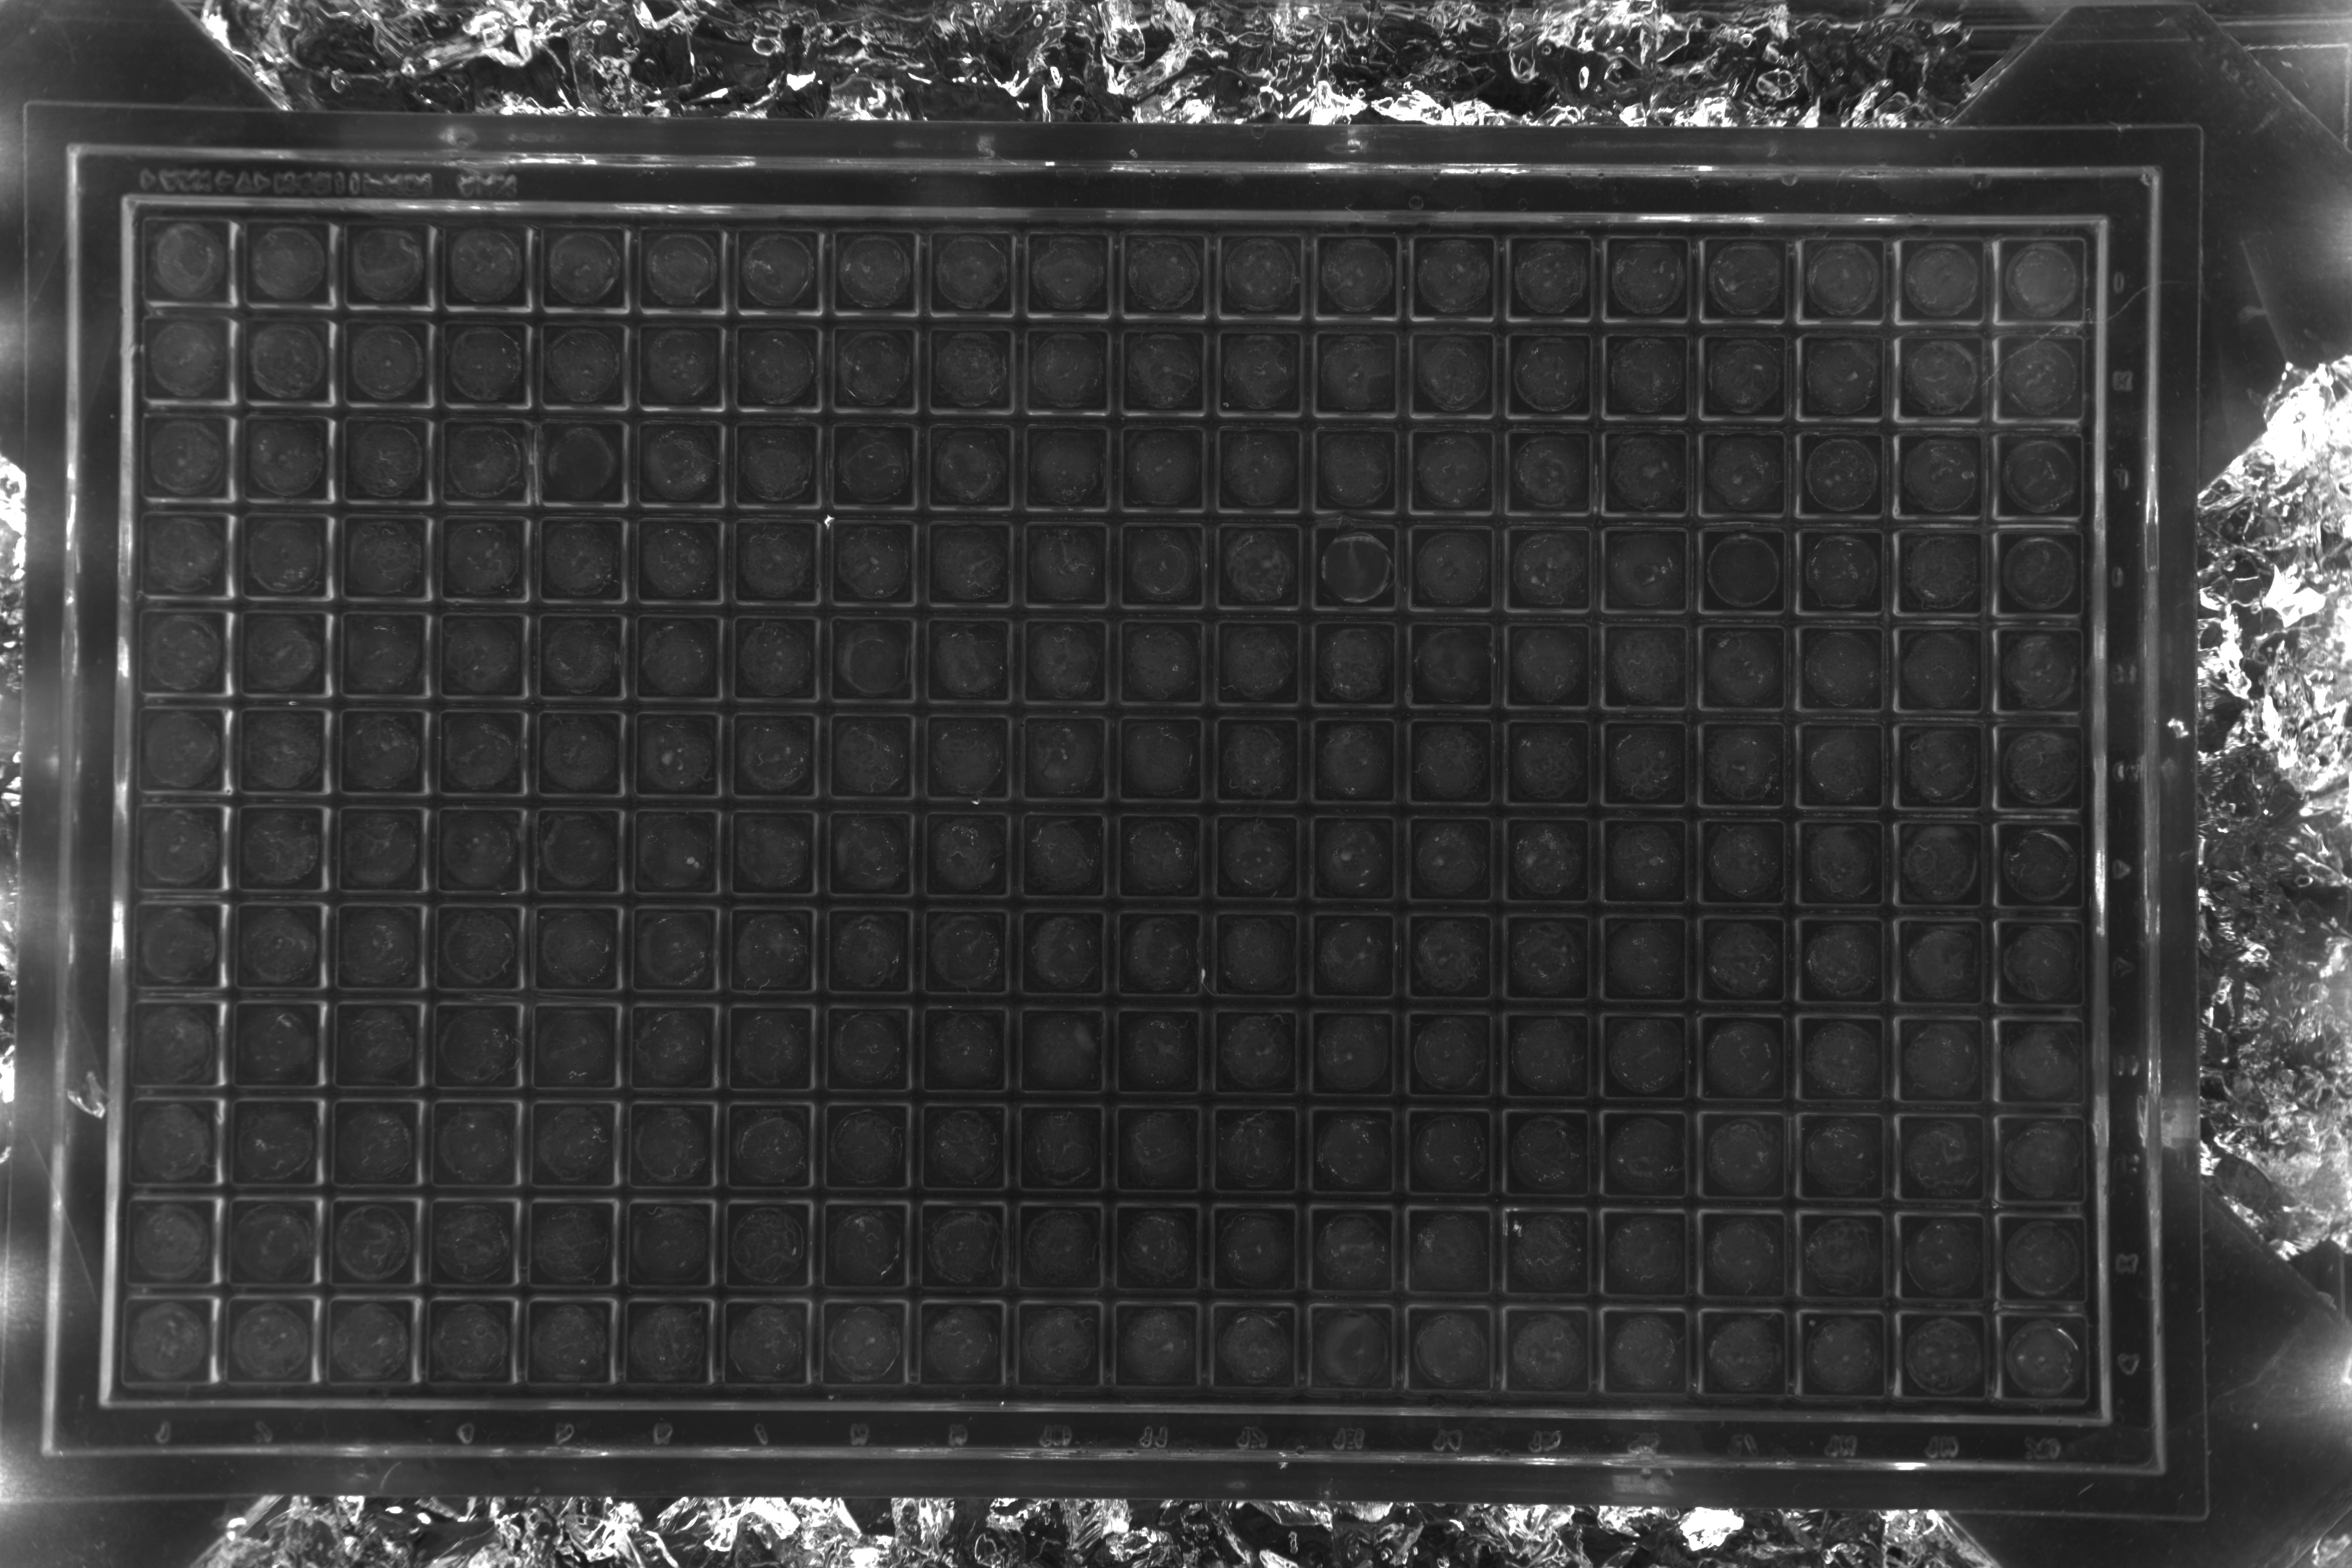WM_well: (203, 651, 292, 738), (395, 945, 485, 1032), (495, 847, 584, 934), (1864, 1249, 1953, 1337), (399, 749, 486, 836), (488, 1241, 576, 1328), (497, 749, 584, 836), (499, 458, 586, 546), (595, 751, 682, 838), (885, 947, 973, 1034), (887, 558, 975, 646), (887, 752, 975, 840), (983, 752, 1071, 840), (1078, 1141, 1165, 1228), (1080, 656, 1167, 744), (1272, 464, 1360, 551), (1272, 656, 1360, 744), (1274, 1143, 1361, 1230), (1368, 367, 1456, 455), (1468, 948, 1556, 1036), (1468, 1046, 1556, 1134), (1858, 658, 1946, 745), (2054, 268, 2142, 355), (2058, 658, 2145, 745)
